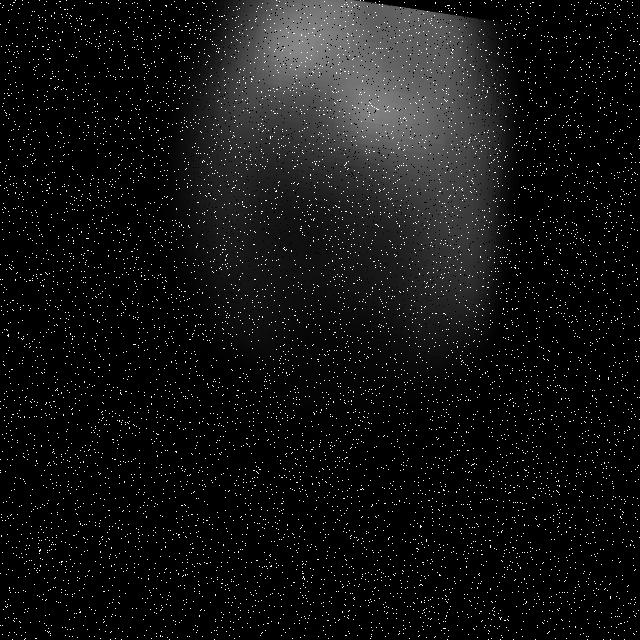person: (62, 1, 573, 624)
